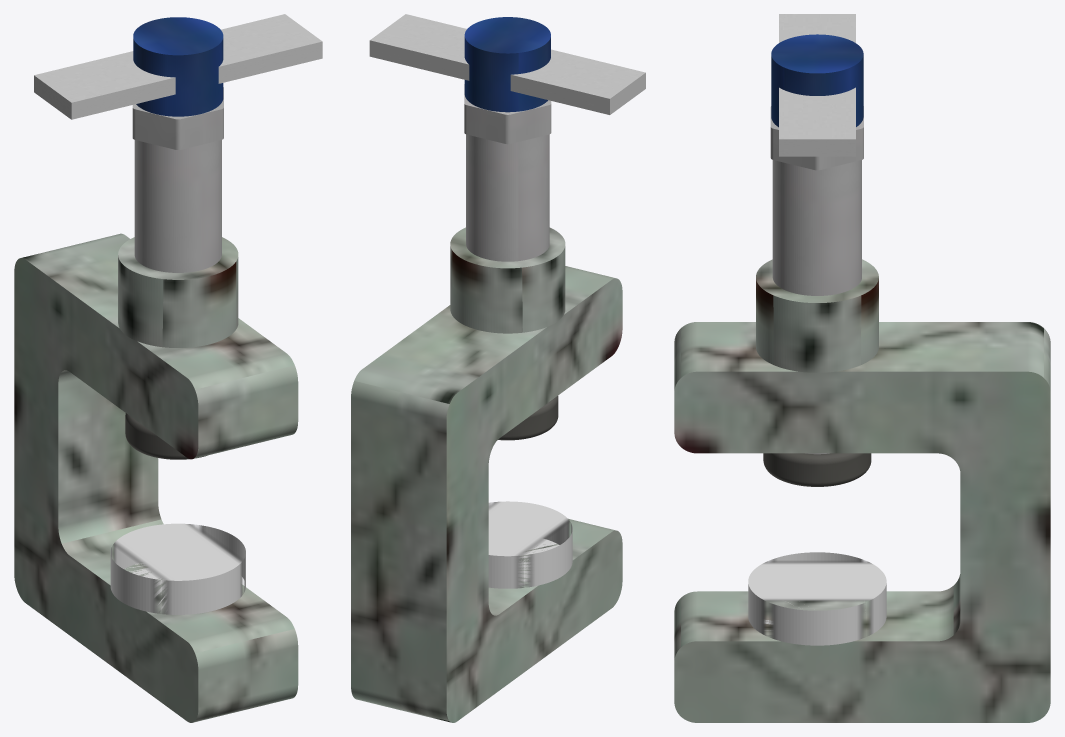
File: Handtools_Clamp__0009.glb
3 views of the same model, side by side, from view 1: azimuth 30°, elevation 25°; view 2: azimuth 150°, elevation 25°; view 3: azimuth 270°, elevation 25° (orthographic). The views are drawn at different scales.
Parts seen in each view (by area): view 1: frame::frame_body, screw::screw_core, frame::anvil_pad, screw::handle_hub, screw::wing_0, screw::wing_1, screw::screw_collar, screw::swivel_pad; view 2: frame::frame_body, screw::screw_core, frame::anvil_pad, screw::handle_hub, screw::wing_0, screw::wing_1, screw::screw_collar, screw::swivel_pad; view 3: frame::frame_body, screw::screw_core, frame::anvil_pad, screw::handle_hub, screw::wing_1, screw::swivel_pad, screw::wing_0, screw::screw_collar.
Part boxes in pixels (bbox=[...]): frame::frame_body: bbox=[14, 233, 298, 722]; screw::screw_core: bbox=[134, 140, 221, 272]; frame::anvil_pad: bbox=[110, 523, 245, 614]; screw::handle_hub: bbox=[133, 17, 223, 116]; screw::wing_0: bbox=[34, 51, 175, 119]; screw::wing_1: bbox=[218, 14, 322, 83]; screw::screw_collar: bbox=[132, 87, 223, 149]; screw::swivel_pad: bbox=[125, 413, 206, 459]; frame::frame_body: bbox=[351, 227, 622, 722]; screw::screw_core: bbox=[466, 134, 549, 261]; frame::anvil_pad: bbox=[488, 501, 572, 588]; screw::handle_hub: bbox=[464, 17, 550, 112]; screw::wing_0: bbox=[510, 49, 645, 114]; screw::wing_1: bbox=[369, 14, 469, 80]; screw::screw_collar: bbox=[464, 84, 551, 144]; screw::swivel_pad: bbox=[498, 396, 558, 440]; frame::frame_body: bbox=[674, 259, 1050, 722]; screw::screw_core: bbox=[772, 160, 861, 454]; frame::anvil_pad: bbox=[748, 552, 886, 645]; screw::handle_hub: bbox=[771, 34, 863, 127]; screw::wing_1: bbox=[779, 87, 855, 156]; screw::swivel_pad: bbox=[763, 453, 871, 486]; screw::wing_0: bbox=[779, 14, 855, 42]; screw::screw_collar: bbox=[770, 106, 863, 170].
Size of the model in its own units: 0.0771 by 0.1848 by 0.0978.
Materials: 6 (6 with a texture image).
